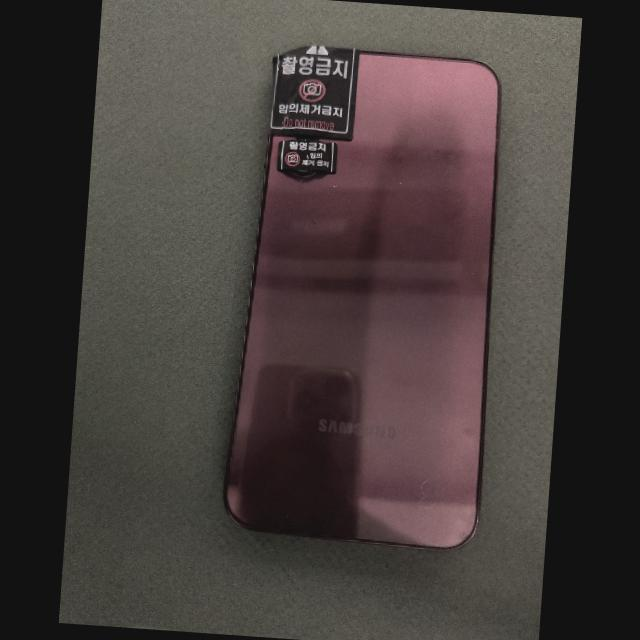lens: (290, 170, 317, 177), (296, 137, 318, 141)
phone: (223, 44, 500, 549)
sticker: (269, 45, 359, 141), (277, 140, 337, 171)
